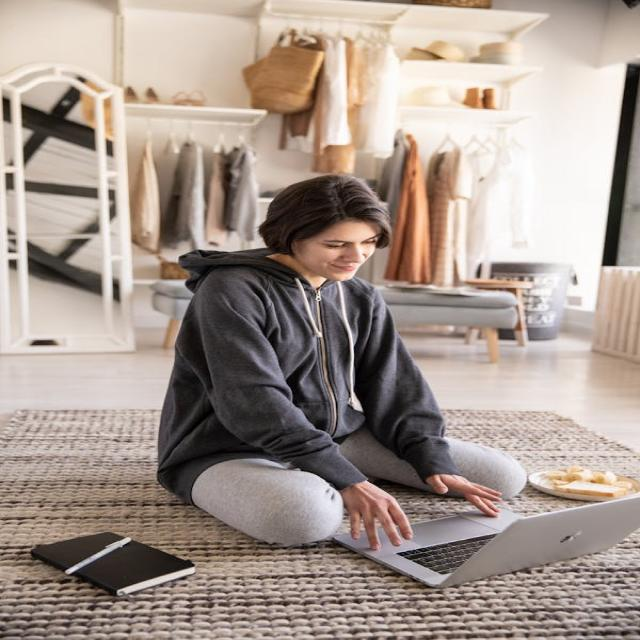Real human 2: (131, 161, 568, 587)
